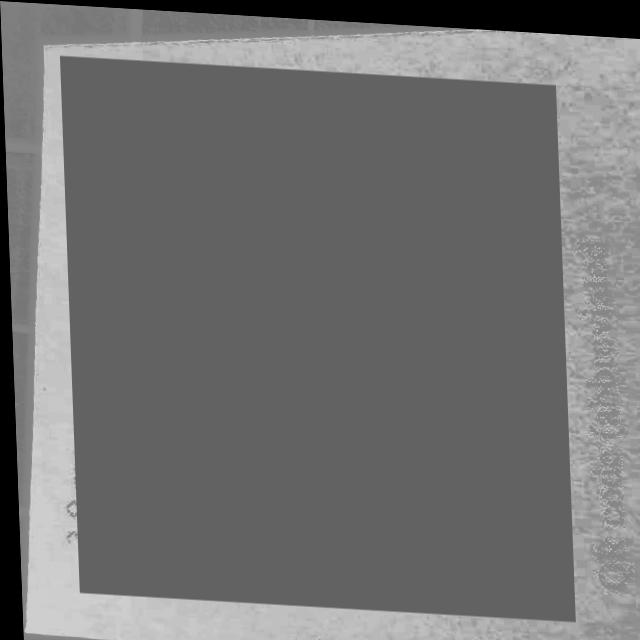qr_code: (60, 55, 571, 614)
